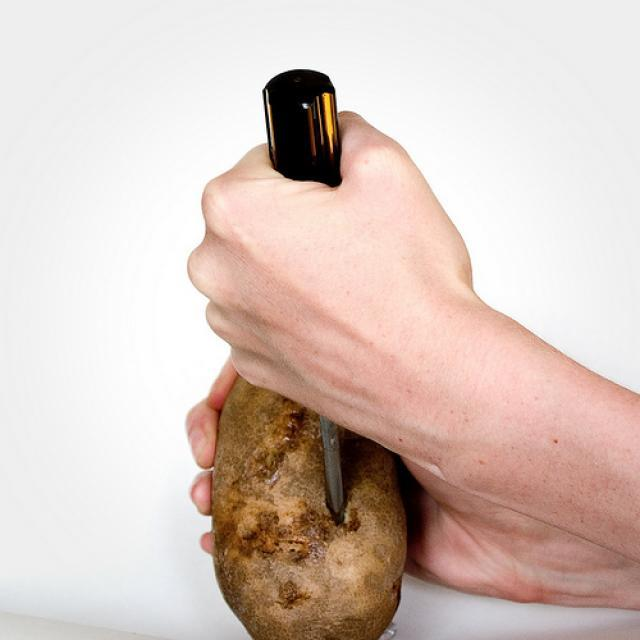screwdriver: (248, 62, 377, 538)
